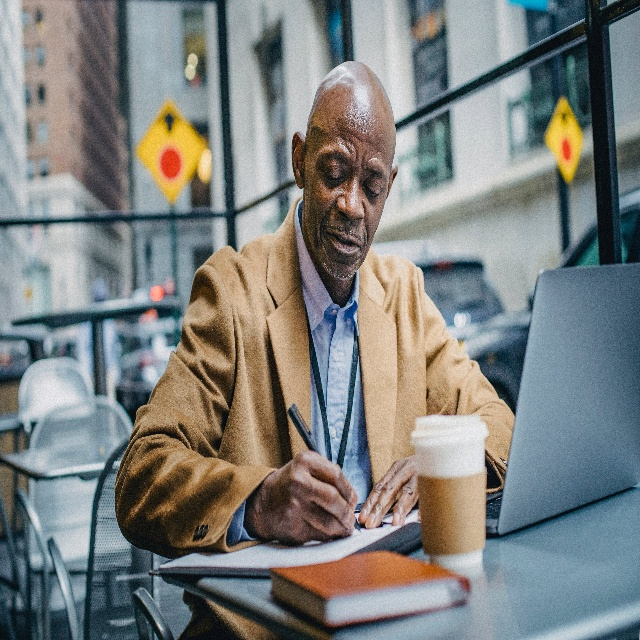Sin_guantes: (252, 446, 360, 545), (357, 450, 422, 533)
